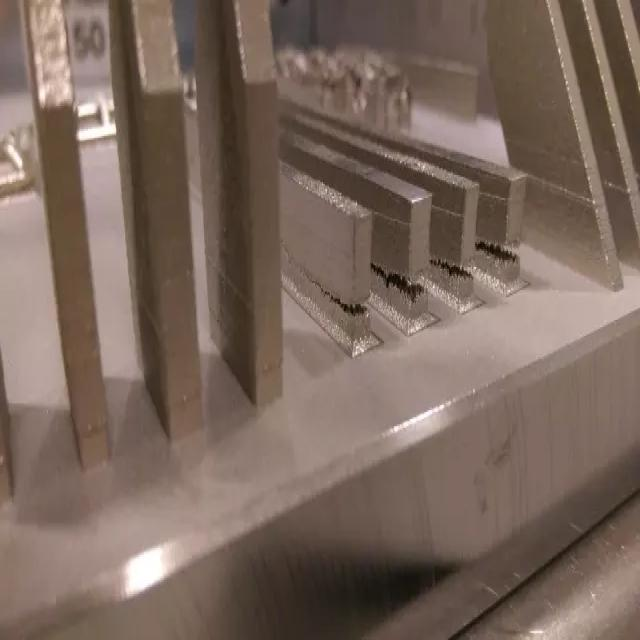Warping: (449, 213, 530, 299), (301, 250, 369, 340), (381, 240, 434, 319)
